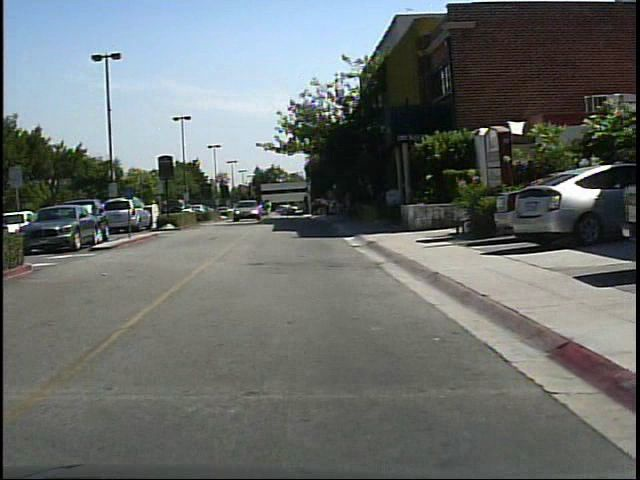person: (156, 193, 172, 229), (259, 194, 275, 224)
